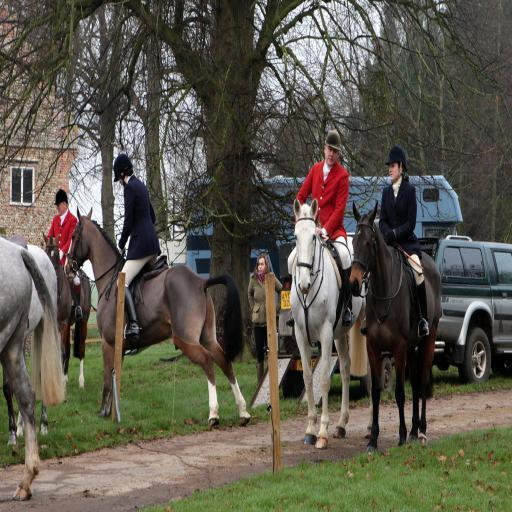horse: (63, 204, 252, 424), (348, 200, 444, 452), (291, 194, 367, 448), (0, 236, 67, 500), (0, 234, 56, 444), (42, 234, 92, 390)
